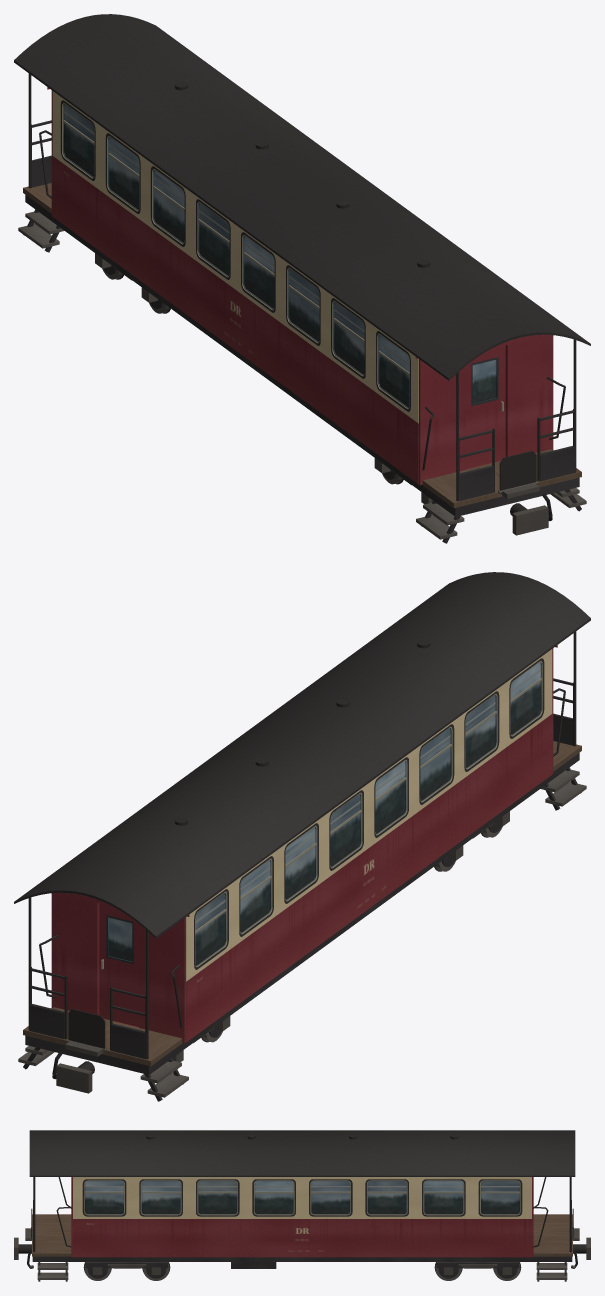
The model's file is harz_rekowagen.gltf.
The picture shows the model from 3 angles, top to bottom: view 1: azimuth 30°, elevation 25°; view 2: azimuth 150°, elevation 25°; view 3: azimuth 270°, elevation 25°; orthographic projection. The views are drawn at different scales.
Parts seen in each view (by area): view 1: Harz_Rekowagen; view 2: Harz_Rekowagen; view 3: Harz_Rekowagen.
Boxes of the visible parts, bbox=[...] form: Harz_Rekowagen: bbox=[14, 14, 590, 543]; Harz_Rekowagen: bbox=[14, 572, 590, 1101]; Harz_Rekowagen: bbox=[14, 1130, 590, 1281].
Bounding box in the file's own units: 2.72 × 3.87 × 14.8.
1 material, 1 textured.
